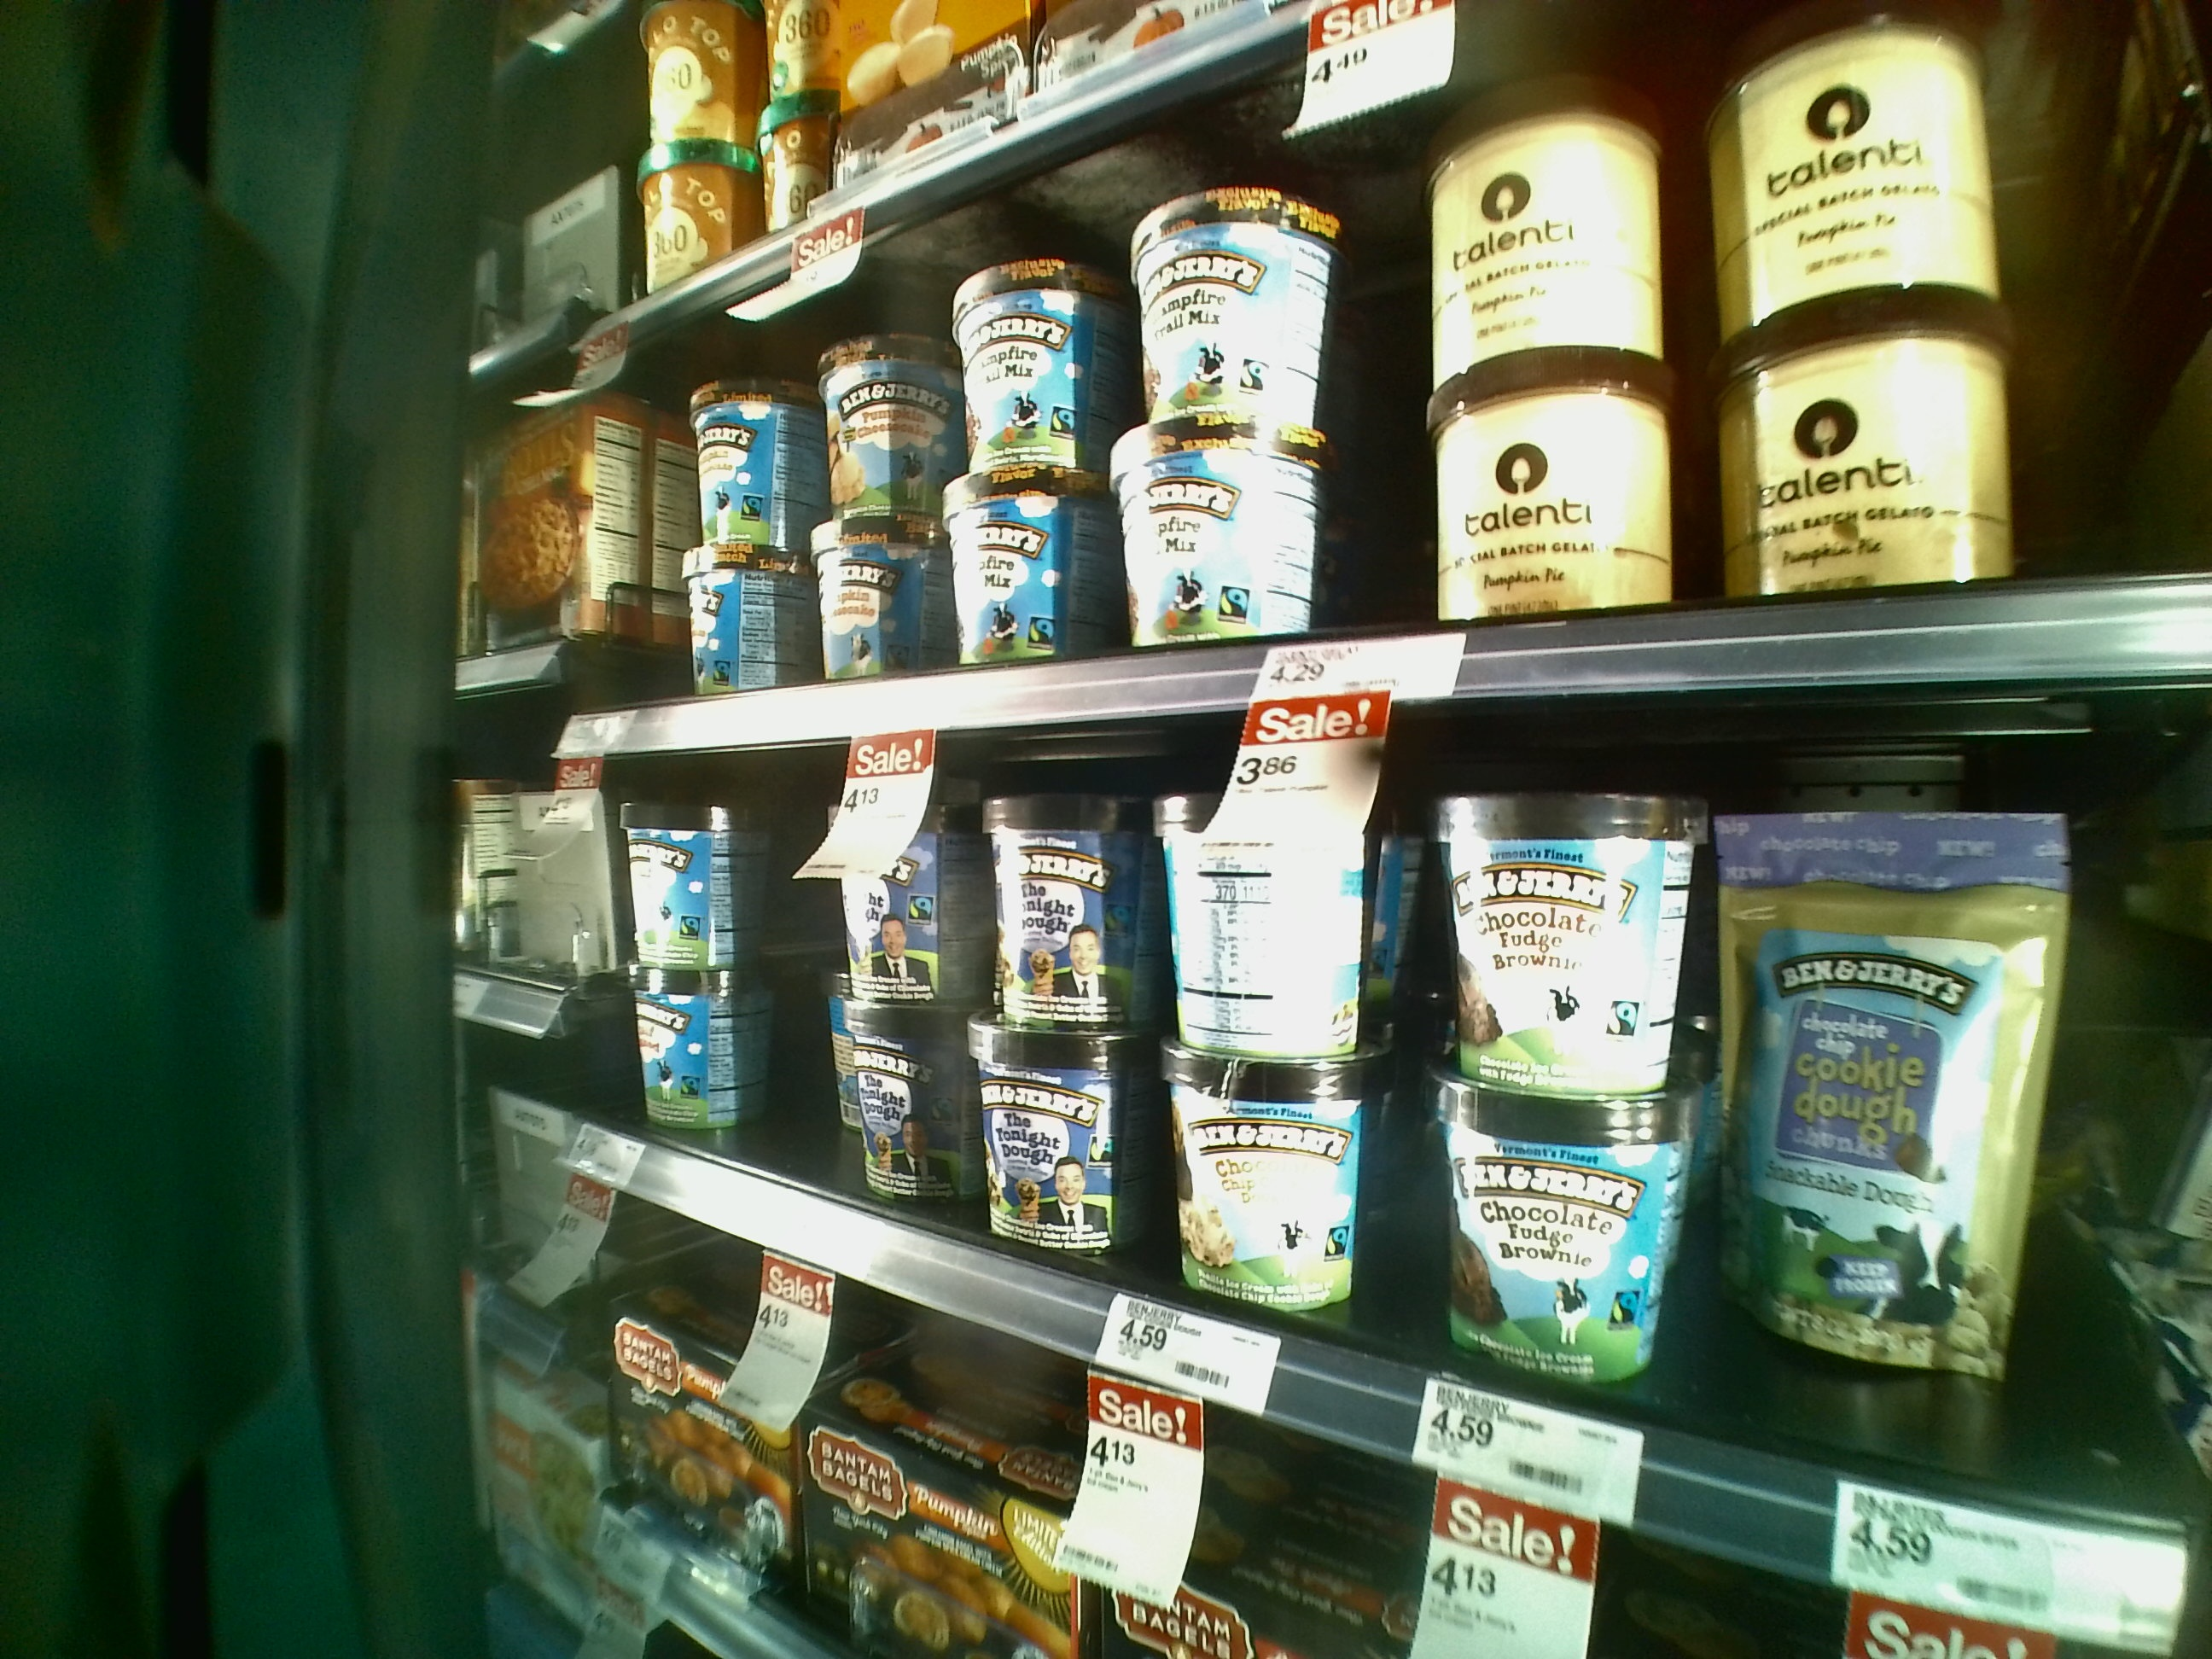shelf: (570, 688, 2212, 1464), (589, 139, 2202, 713)
